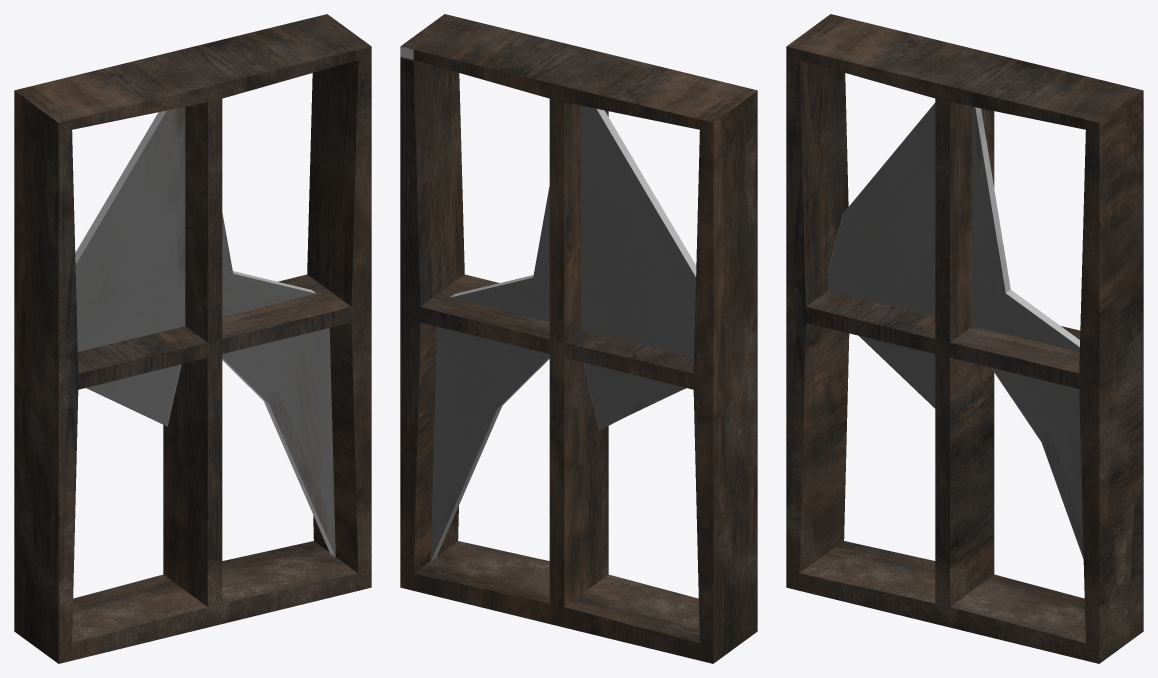
File: Broken_window_Rock.fbx
The picture shows the model from 3 angles, left to right: view 1: azimuth 30°, elevation 25°; view 2: azimuth 150°, elevation 25°; view 3: azimuth 330°, elevation 25°; orthographic projection.
Parts seen in each view (by area): view 1: Broken window; view 2: Broken window; view 3: Broken window.
Boxes of the visible parts, box(x1,y1,x2,y2) form: Broken window: box(14, 14, 371, 663); Broken window: box(400, 14, 757, 663); Broken window: box(786, 14, 1143, 663).
Size of the model in its own units: 2217 by 3662 by 545.
